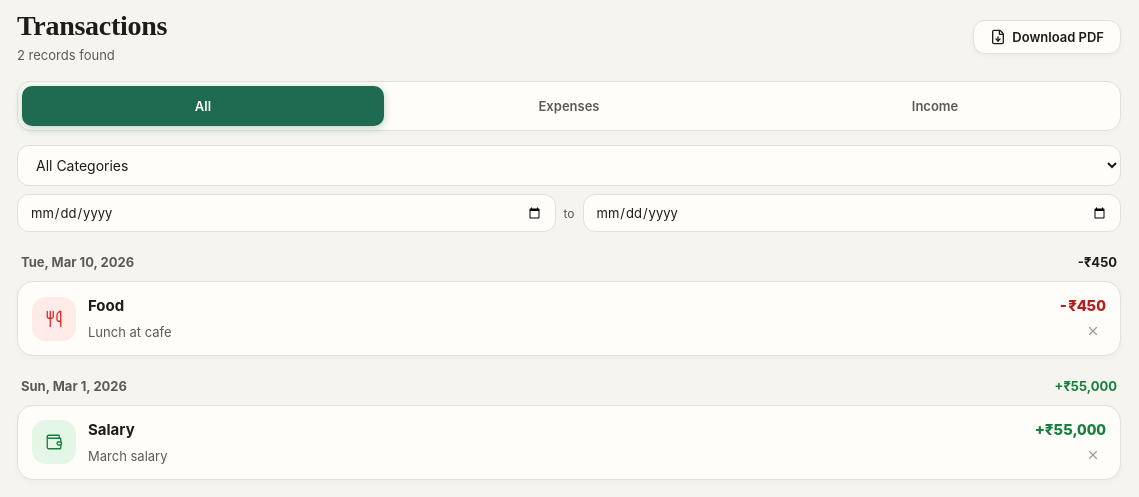
Test: Expenses › filters by category
The width and height of the screenshot is (1139, 497).
Select "Salary" in the dropdown at (569, 166), box [17,145,1121,186]
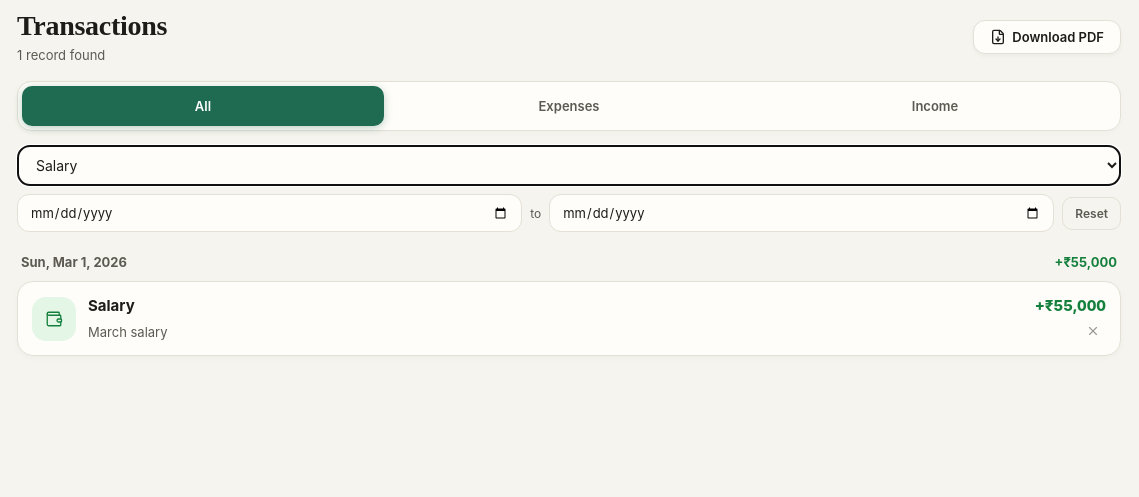
Check: the text "March salary" is shown, box [88,324,168,340]
Check: the text "Lunch at cafe" is gone
